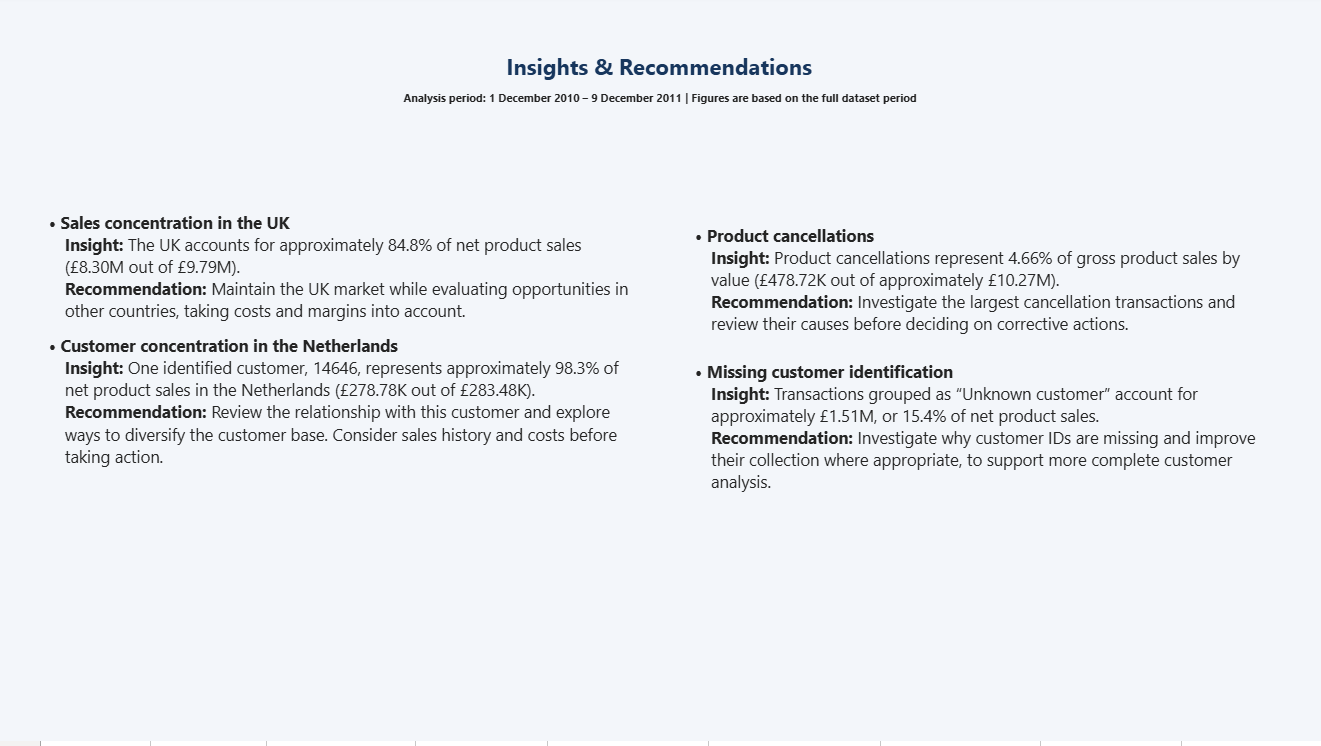

This screenshot's page, from the dashboard's own definition file:
{"tool":"powerbi","page":{"name":"Insights & Recommendations","canvas":[1920,1080],"ordinal":8},"visuals":[{"type":"textbox","box":[340.9,80.8,1236.9,112.4],"z":0},{"type":"textbox","box":[56.1,313.1,861.4,742],"z":1000},{"type":"textbox","box":[991.7,313.1,861.4,767.3],"z":2000},{"type":"textbox","box":[509.5,137,899.6,56.2],"z":3000}]}

Visuals, with their boxes in screenshot pixels (x1, y1, x2, y2), scaled from the page's 1920x1080 canvas onto the 1321x746 screenshot:
textbox: <region>235, 56, 1086, 133</region>
textbox: <region>39, 216, 631, 729</region>
textbox: <region>682, 216, 1275, 745</region>
textbox: <region>351, 95, 969, 133</region>
